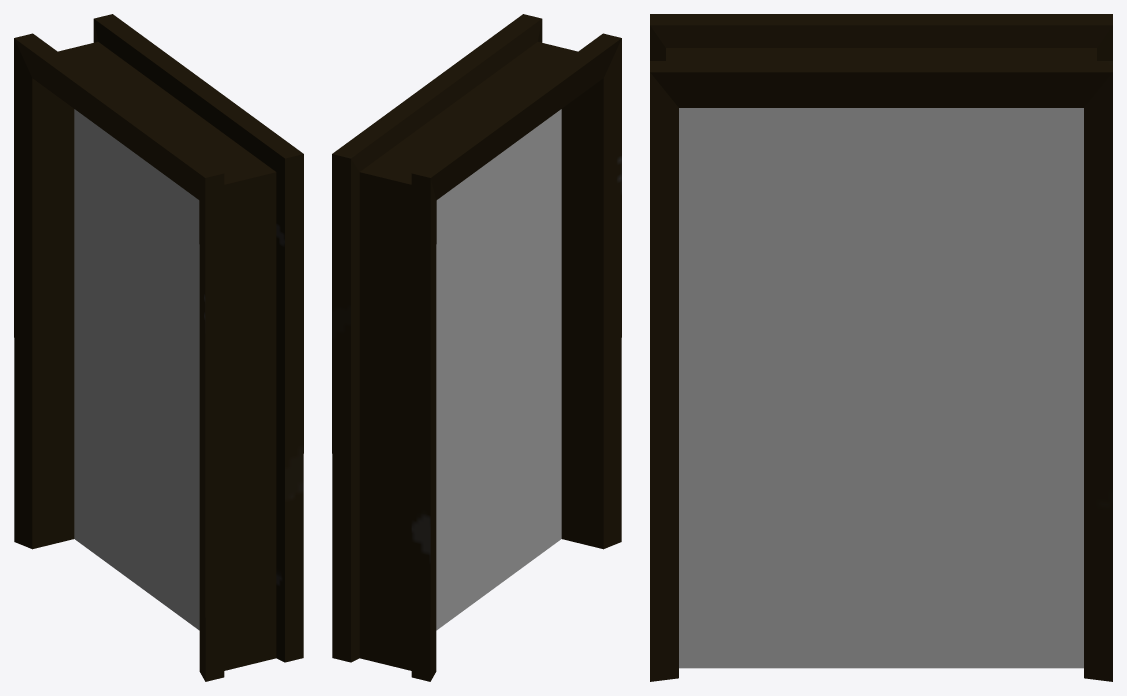
Rendered from Exit_Door.fbx.
3 views of the same model, side by side, from view 1: azimuth 30°, elevation 25°; view 2: azimuth 150°, elevation 25°; view 3: azimuth 270°, elevation 25° (orthographic). The views are drawn at different scales.
Parts seen in each view (by area): view 1: pCube21; view 2: pCube21; view 3: pCube21.
Boxes of the visible parts, left/top/right/bottom form: pCube21: left=14, top=14, right=303, bottom=681; pCube21: left=332, top=14, right=621, bottom=681; pCube21: left=650, top=14, right=1112, bottom=681.
Size of the model in its own units: 175 by 852 by 586.
Materials: 1 (1 with a texture image).
